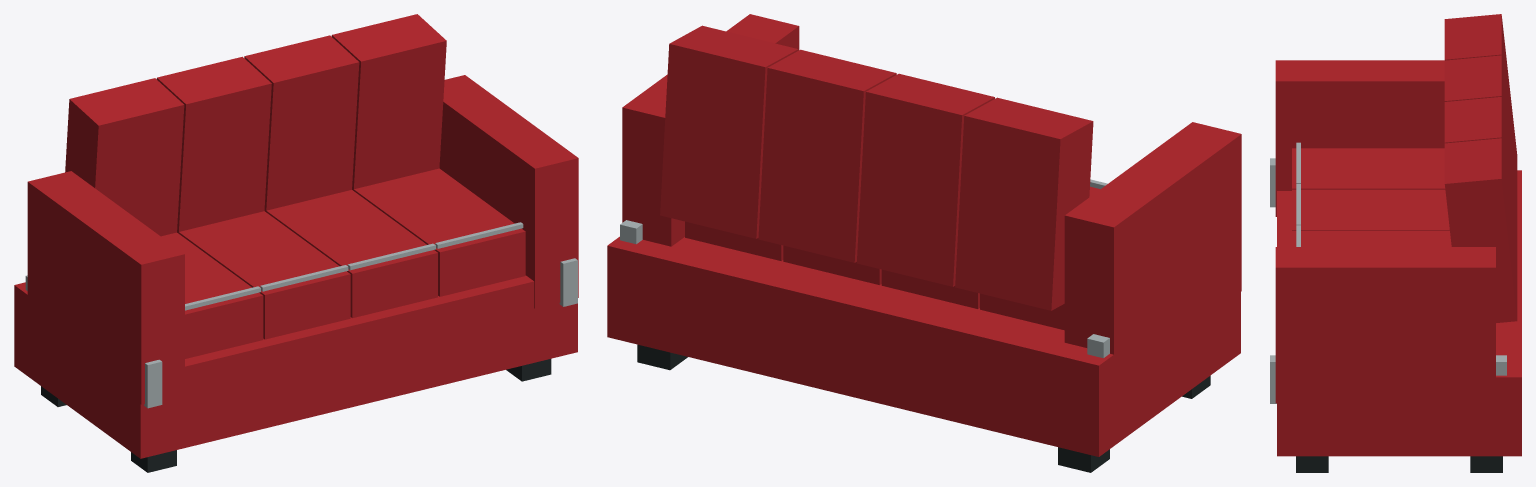
File: good.glb
3 renders of one model, left to right at view 1: azimuth 30°, elevation 25°; view 2: azimuth 150°, elevation 25°; view 3: azimuth 270°, elevation 25°, orthographic. The views are drawn at different scales.
Parts seen in each view (by area): view 1: Armrest, Armoured rail, Sofa foot; view 2: Armrest, Sofa foot, Armoured rail; view 3: Armrest, Armoured rail, Sofa foot.
Boxes of the visible parts, bbox=[...] form: Armrest: bbox=[14, 14, 578, 458]; Armoured rail: bbox=[25, 222, 577, 408]; Sofa foot: bbox=[41, 359, 551, 472]; Armrest: bbox=[607, 14, 1241, 456]; Sofa foot: bbox=[637, 344, 1210, 472]; Armoured rail: bbox=[620, 179, 1109, 358]; Armrest: bbox=[1275, 14, 1521, 456]; Armoured rail: bbox=[1270, 142, 1506, 403]; Sofa foot: bbox=[1296, 456, 1502, 472].
Size of the model in its own units: 2 by 1.27 by 1.03.
